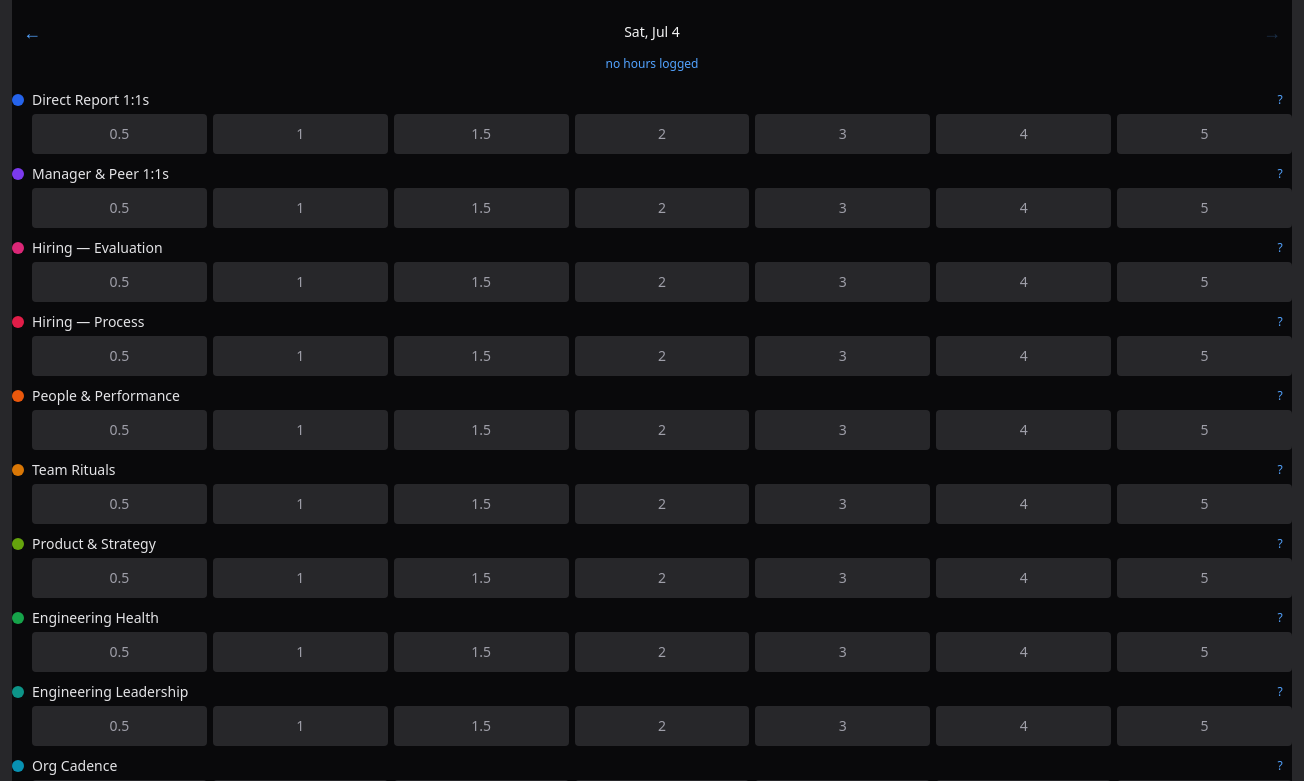
Test: LogView › updates total hours display after clicking an hour button
Expected: the button "no hours logged" is shown, [606,56,698,72]
What coordinates should you click on to do the following:
click the 1st button "2"
I would click on:
 (662, 134)
Its box is [575,114,750,154].
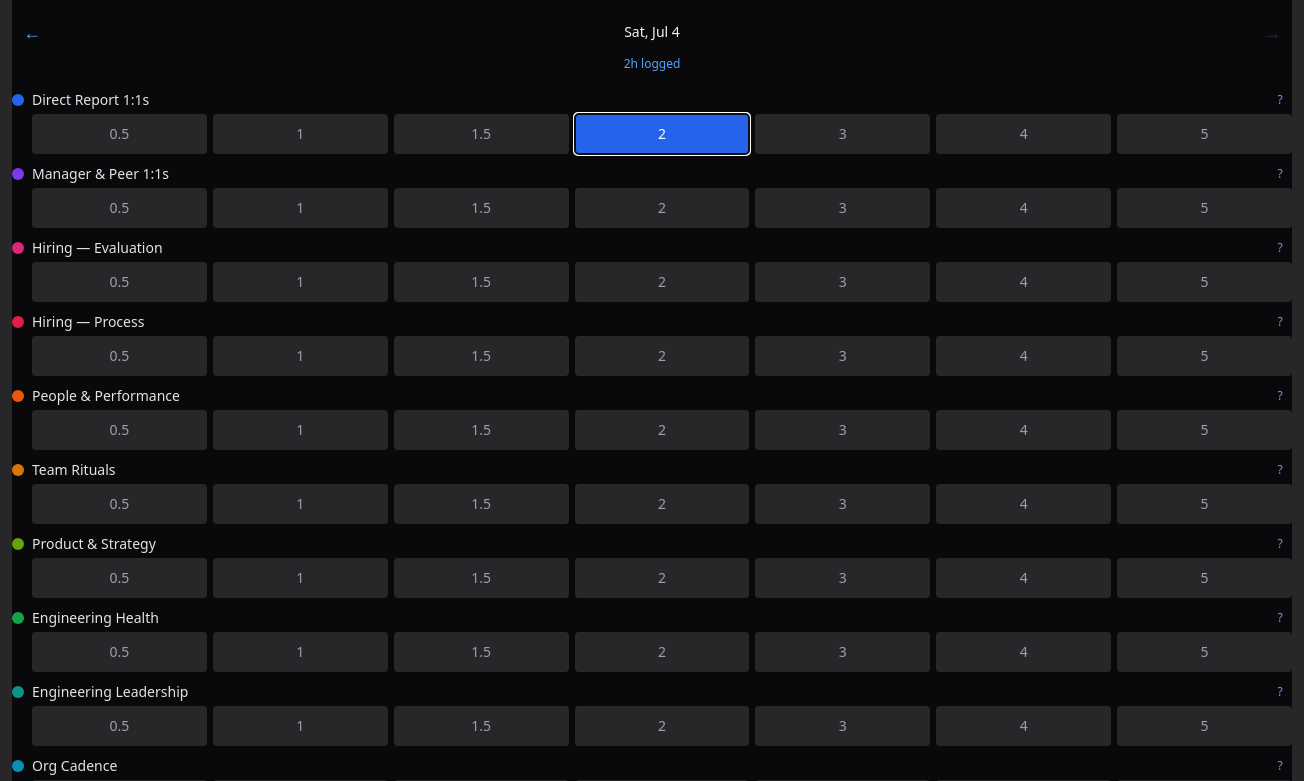
Result: the button "2h logged" is shown at [624,56,680,72]
